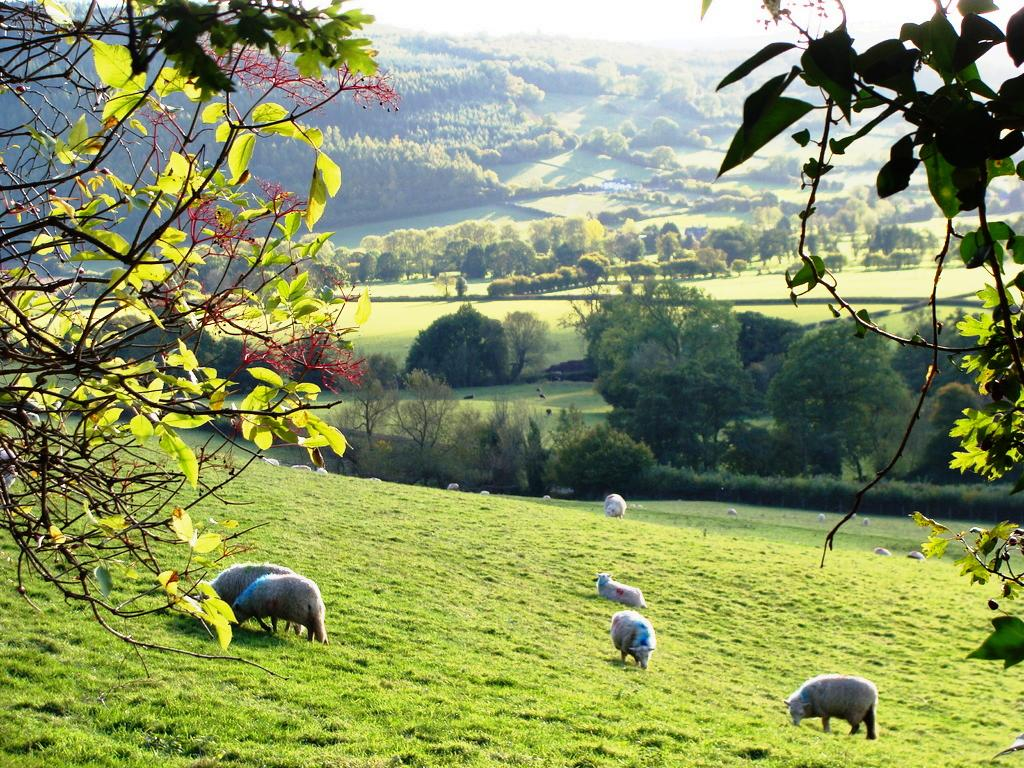Sheep: (234, 574, 328, 644), (203, 564, 296, 632), (785, 676, 875, 736), (609, 610, 654, 671), (594, 572, 648, 608), (604, 495, 626, 519)
